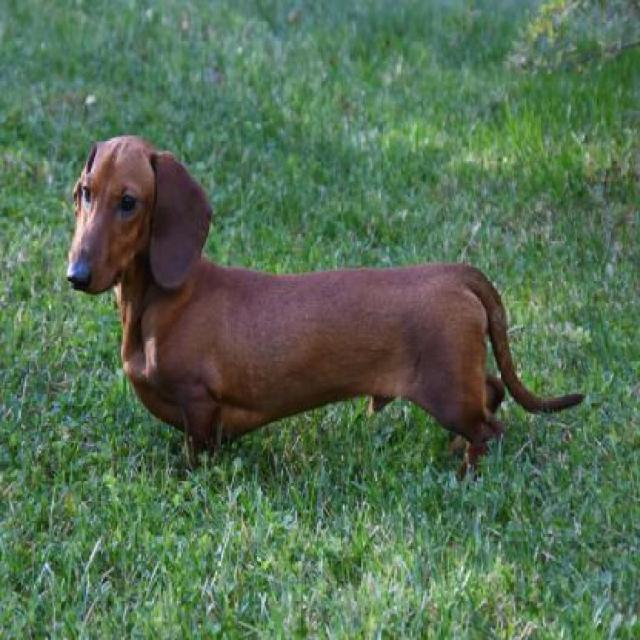Dog: (64, 131, 590, 477)
